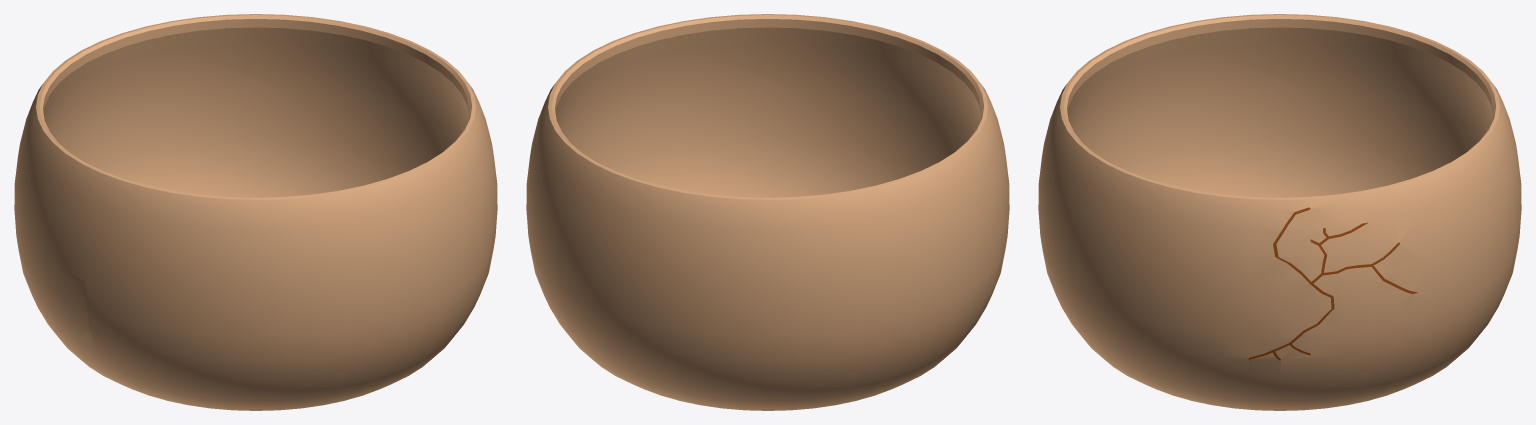
The model's file is SM_CrackedPot.fbx.
3 views of the same model, side by side, from view 1: azimuth 30°, elevation 25°; view 2: azimuth 150°, elevation 25°; view 3: azimuth 270°, elevation 25° (orthographic).
Visible parts, largest first — view 1: Cylinder.014; view 2: Cylinder.014; view 3: Cylinder.014.
Boxes of the visible parts, left/top/right/bottom form: Cylinder.014: left=14, top=14, right=497, bottom=410; Cylinder.014: left=526, top=14, right=1009, bottom=410; Cylinder.014: left=1038, top=14, right=1521, bottom=410.
Size of the model in its own units: 573 by 315 by 573.
